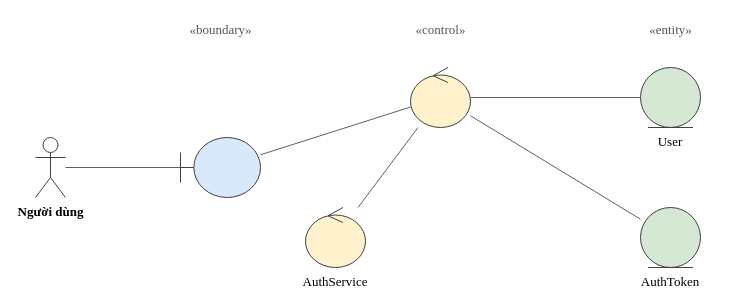
This 747x307 diagram has some shape labels left out. Here are the shapes that lost their labels. From the top down, the box of each, then its label:
(410, 66, 470, 128): AuthController
(180, 136, 260, 198): AccountModal
